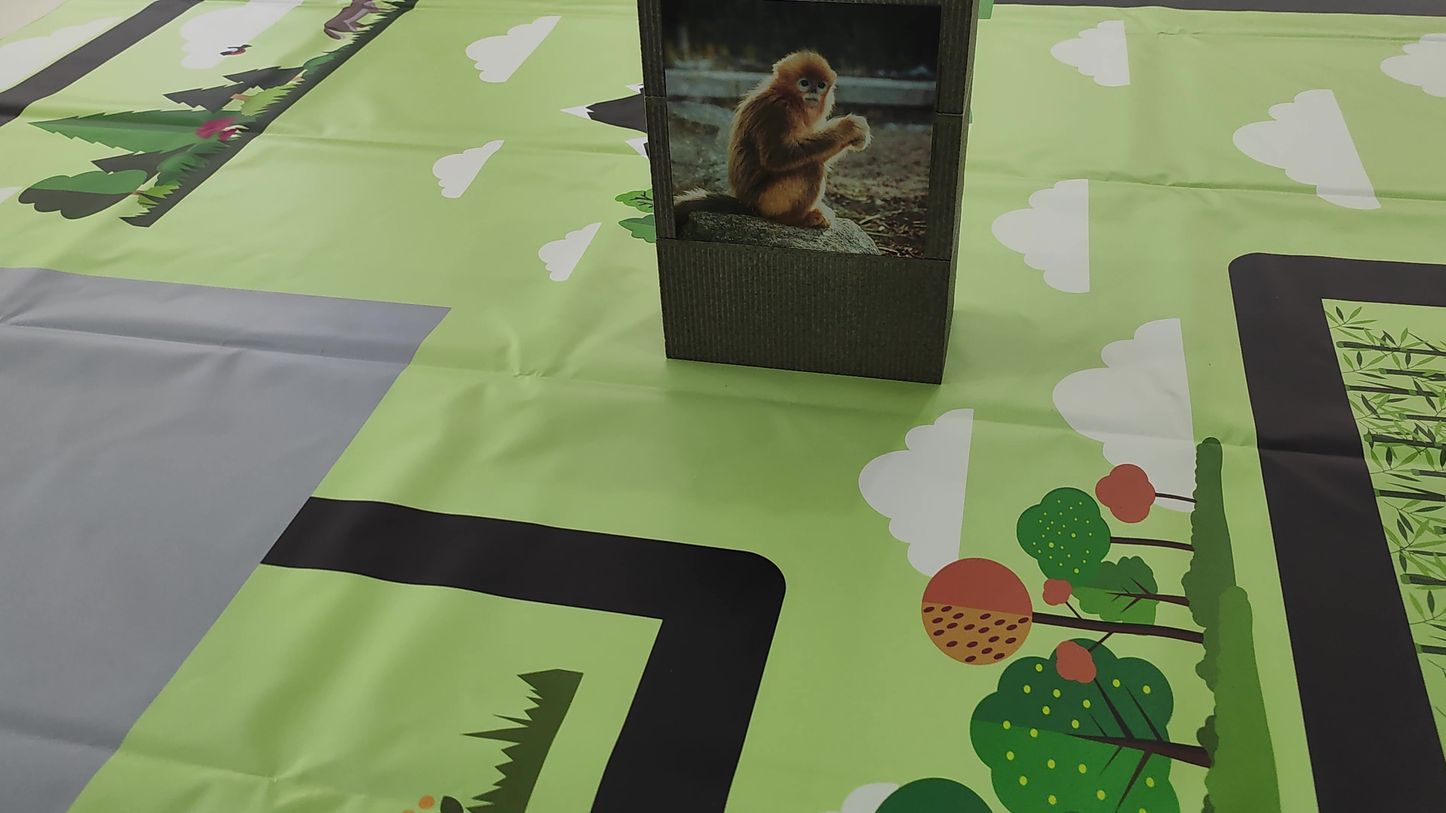monkey: (687, 17, 930, 247)
